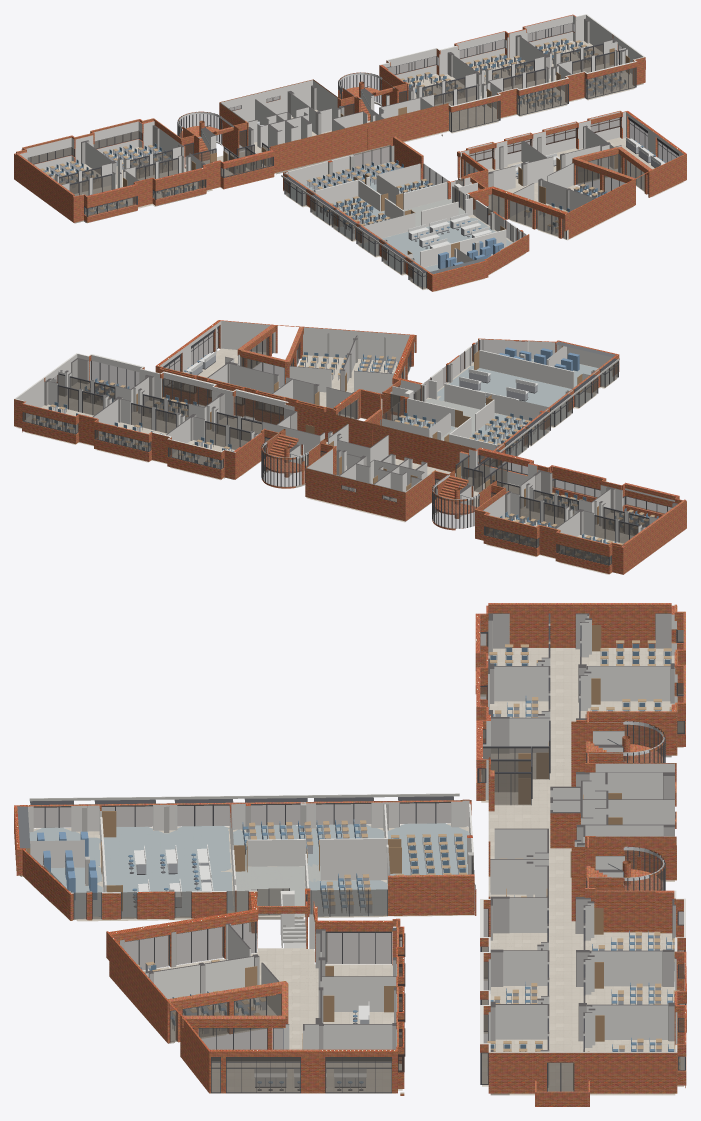
File: floor-5.glb
3 views of the same model, one above another, from view 1: azimuth 30°, elevation 25°; view 2: azimuth 150°, elevation 25°; view 3: azimuth 270°, elevation 25° (orthographic). The views are drawn at different scales.
Visible parts, largest first — view 1: P5_Fachada_Compartida, P5_B_Walls, P5_A_Walls, P5_A_Glass, P5_A_Floor_Slab, P5_B_Glass, P5_B_Floor_Zones, P5_B_Floor_Slab, P5_A_Torres_Remate, P5_B_Glass_Mullions, P5_A_Columns, P5_A_Furniture_3_3 (+18 smaller); view 2: P5_Fachada_Compartida, P5_B_Walls, P5_A_Walls, P5_A_Glass, P5_A_Floor_Slab, P5_B_Floor_Zones, P5_B_Glass, P5_A_Torres_Remate, P5_A_Columns, P5_A_Fachada_Norte_Oeste_Mamposteria, P5_B_Floor_Slab, P5_A_Glass_Mullions (+17 smaller); view 3: P5_Fachada_Compartida, P5_A_Walls, P5_A_Floor_Slab, P5_B_Glass, P5_B_Walls, P5_B_Floor_Zones, P5_B_Floor_Slab, P5_A_Columns, P5_A_Torres_Remate, P5_A_Fachada_Oeste_Mamposteria, P5_REV_Carril_Fondo_Muro, P5_B_Columns (+14 smaller).
Part boxes in pixels (x1,y1,x2,y2): P5_Fachada_Compartida: [14, 14, 686, 291]; P5_B_Walls: [283, 127, 621, 278]; P5_A_Walls: [49, 20, 627, 204]; P5_A_Glass: [59, 45, 625, 216]; P5_A_Floor_Slab: [45, 41, 635, 223]; P5_B_Glass: [285, 145, 644, 288]; P5_B_Floor_Zones: [287, 162, 511, 286]; P5_B_Floor_Slab: [283, 137, 683, 291]; P5_A_Torres_Remate: [179, 78, 398, 160]; P5_B_Glass_Mullions: [284, 145, 648, 289]; P5_A_Columns: [81, 18, 639, 214]; P5_A_Furniture_3_3: [439, 38, 607, 98]; P5_Fachada_Compartida: [14, 320, 686, 574]; P5_B_Walls: [207, 325, 612, 460]; P5_A_Walls: [48, 370, 674, 548]; P5_A_Glass: [58, 375, 671, 543]; P5_A_Floor_Slab: [16, 383, 645, 574]; P5_B_Floor_Zones: [402, 359, 613, 465]; P5_B_Glass: [241, 334, 618, 466]; P5_A_Torres_Remate: [264, 429, 496, 518]; P5_A_Columns: [44, 358, 677, 535]; P5_A_Fachada_Norte_Oeste_Mamposteria: [475, 515, 608, 573]; P5_B_Floor_Slab: [162, 348, 616, 462]; P5_A_Glass_Mullions: [57, 375, 667, 542]; P5_Fachada_Compartida: [14, 605, 686, 1106]; P5_A_Walls: [480, 613, 677, 1084]; P5_A_Floor_Slab: [480, 648, 685, 1095]; P5_B_Glass: [31, 797, 474, 1049]; P5_B_Walls: [25, 799, 473, 1049]; P5_B_Floor_Zones: [29, 823, 468, 919]; P5_B_Floor_Slab: [20, 823, 474, 1095]; P5_A_Columns: [488, 613, 676, 1051]; P5_A_Torres_Remate: [571, 721, 662, 921]; P5_A_Fachada_Oeste_Mamposteria: [509, 613, 655, 647]; P5_REV_Carril_Fondo_Muro: [388, 874, 474, 915]; P5_B_Columns: [26, 802, 476, 1049].
Bounding box in the file's own units: 79.06 × 6.54 × 49.01.
26 materials, 4 textured.
